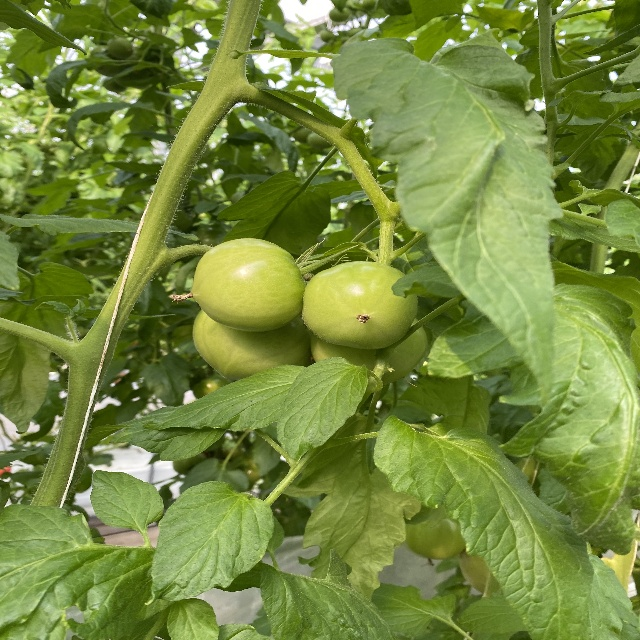b_green: (192, 237, 306, 332), (301, 261, 419, 350), (193, 308, 316, 383), (310, 315, 427, 387), (405, 502, 467, 560)
